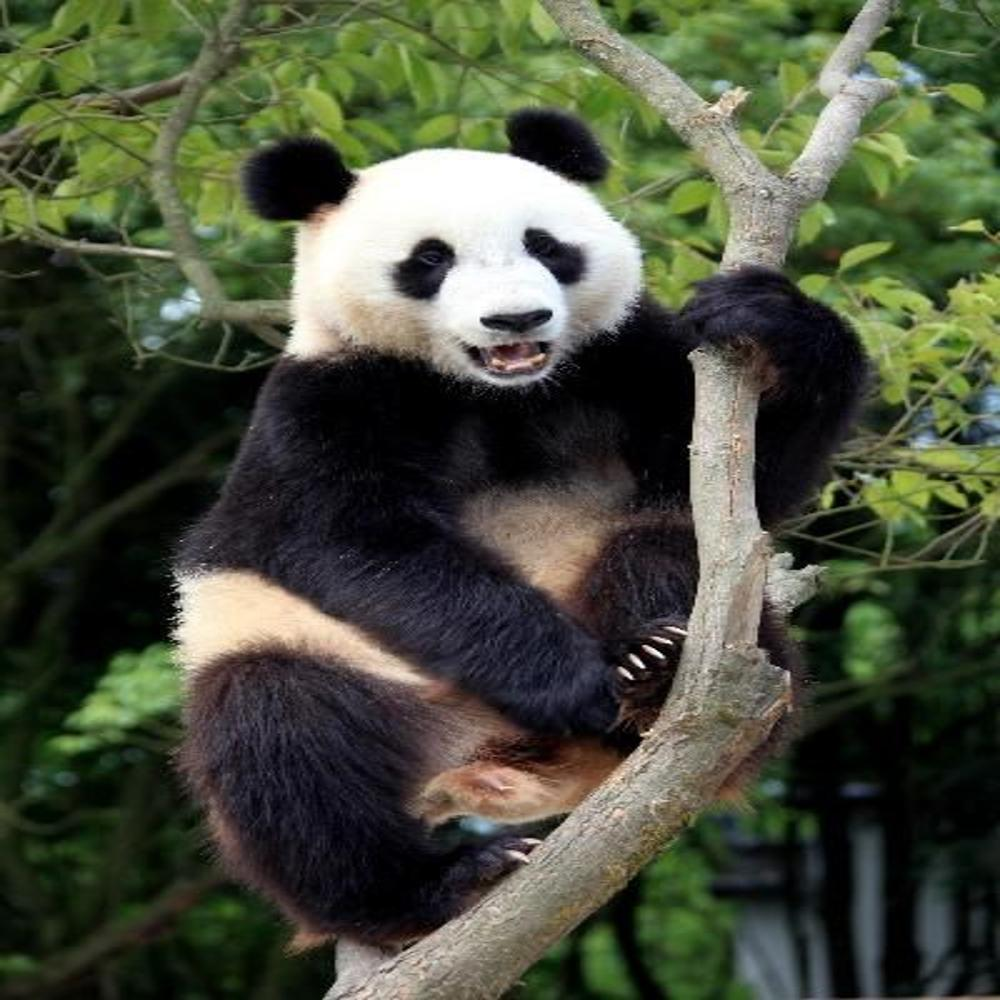panda: (166, 102, 874, 948)
